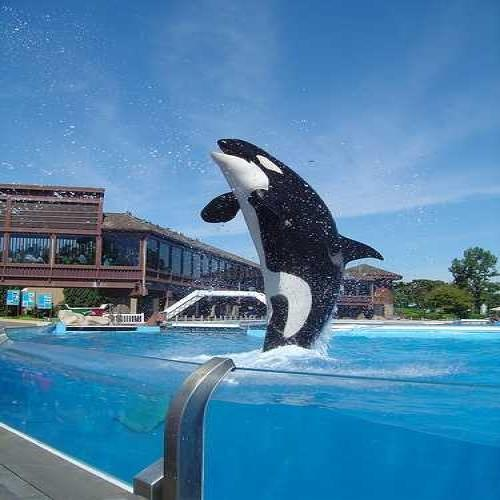killer_whale-endangered: (182, 119, 398, 367)
